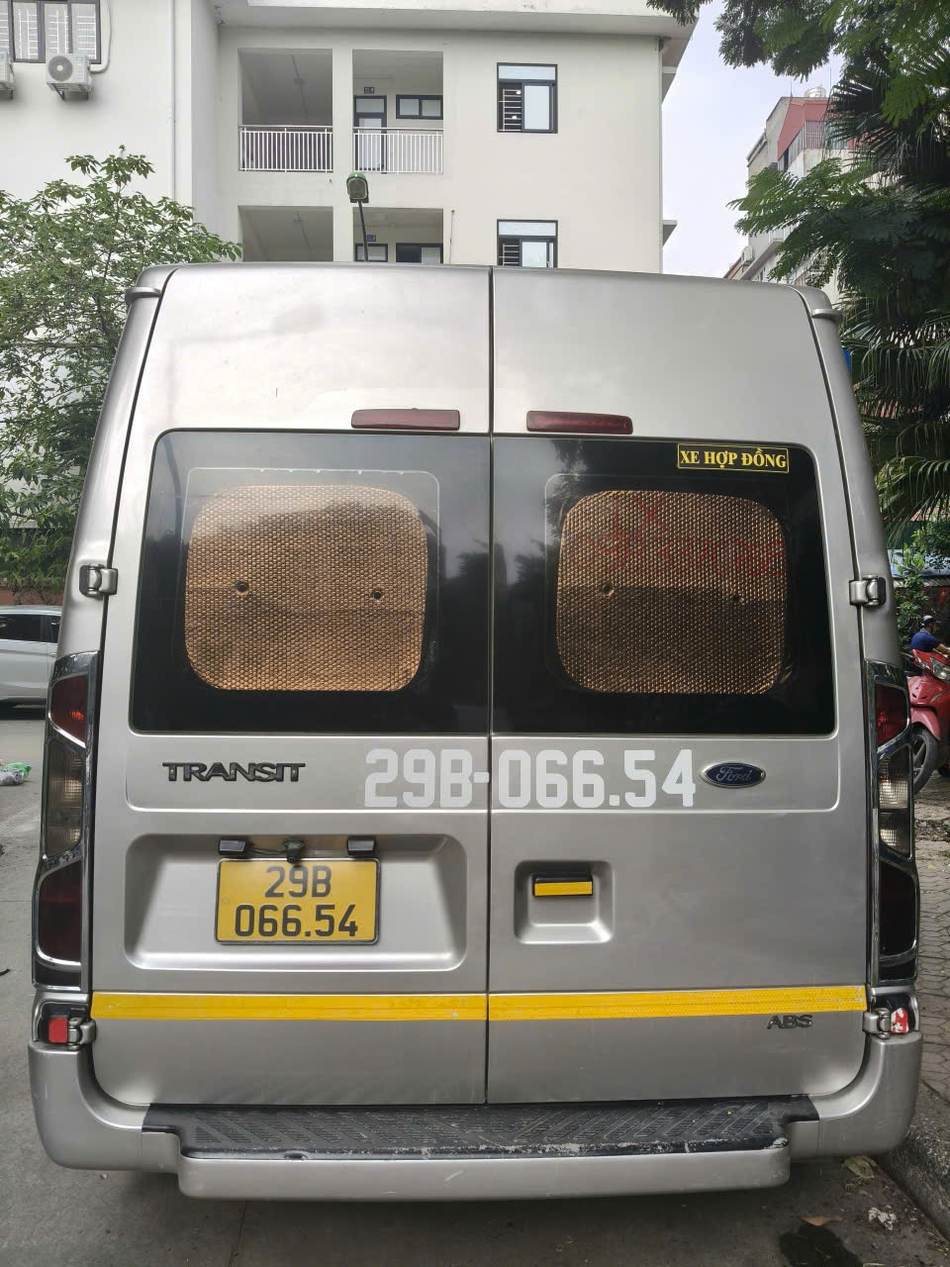plate: (153, 758, 315, 787)
